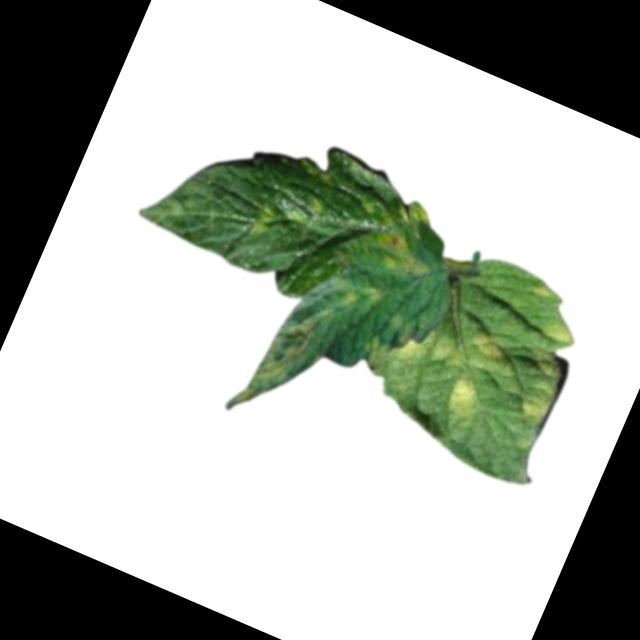Leaf_Mold: (366, 226, 439, 287), (394, 316, 460, 377), (438, 364, 496, 432), (459, 326, 521, 381), (388, 192, 437, 239), (511, 386, 555, 431), (342, 277, 388, 319), (537, 313, 579, 352), (246, 200, 280, 241)
